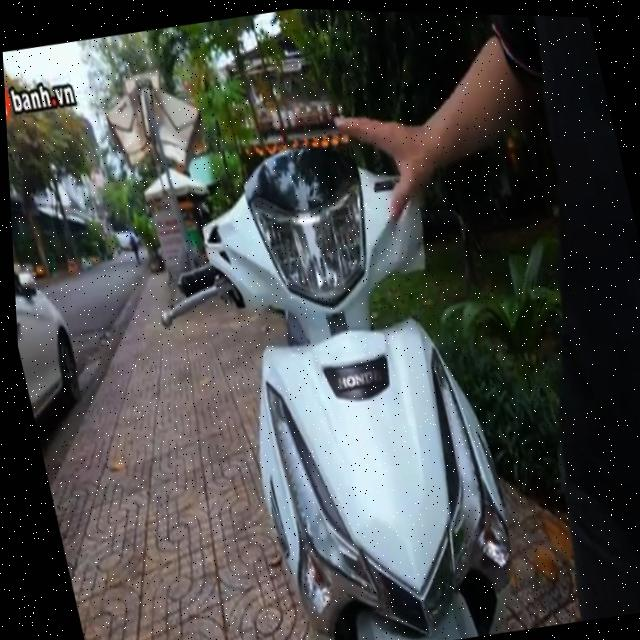car: (12, 231, 115, 500)
motorcycle: (124, 111, 567, 640)
